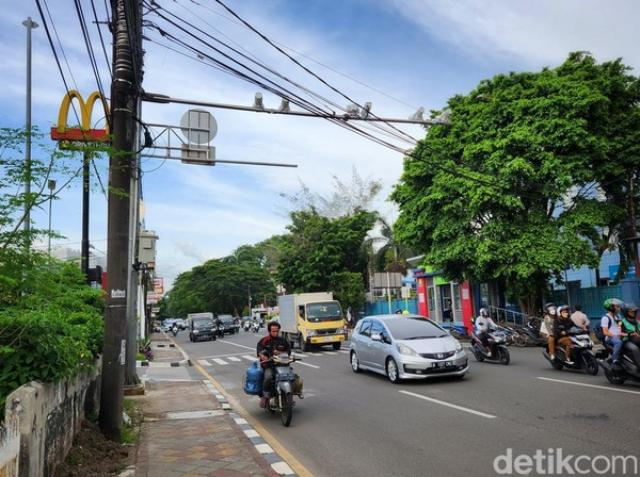helm: (599, 340, 640, 385), (604, 298, 623, 316), (625, 302, 640, 322), (544, 304, 558, 319), (560, 306, 573, 320), (481, 310, 492, 321)
motor: (247, 351, 309, 428), (539, 327, 597, 379), (471, 330, 513, 368)
non-helm: (268, 323, 284, 341)
